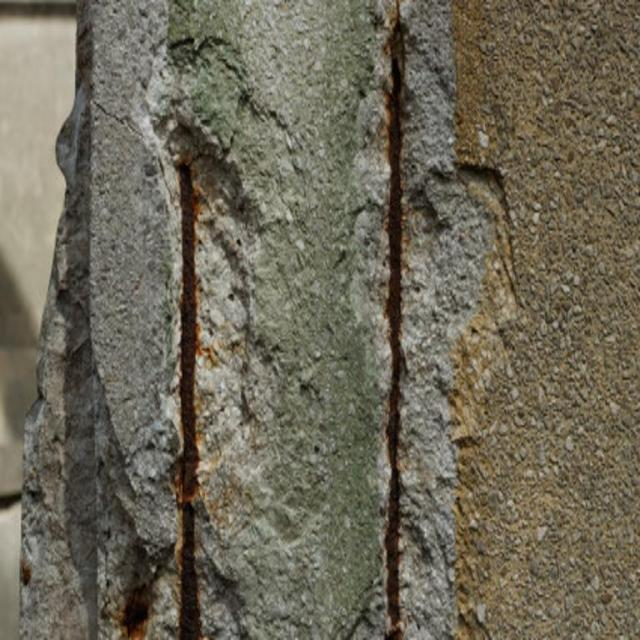Rebar: (337, 3, 512, 633), (134, 11, 276, 634)
